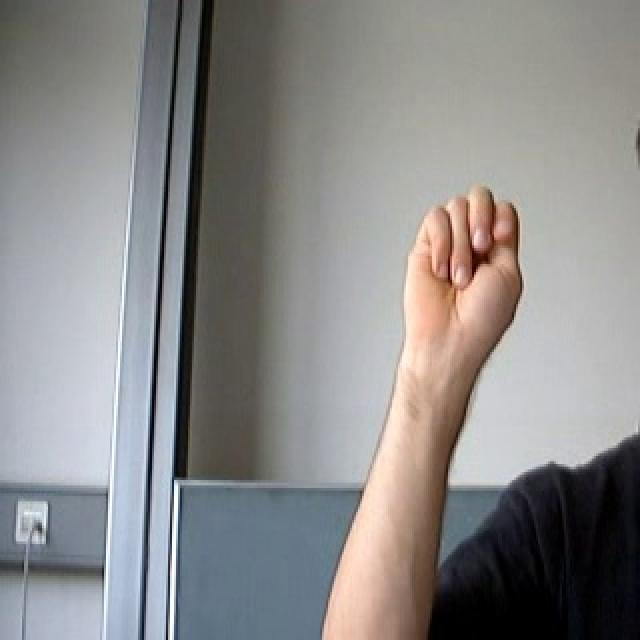N: (385, 174, 540, 377)
